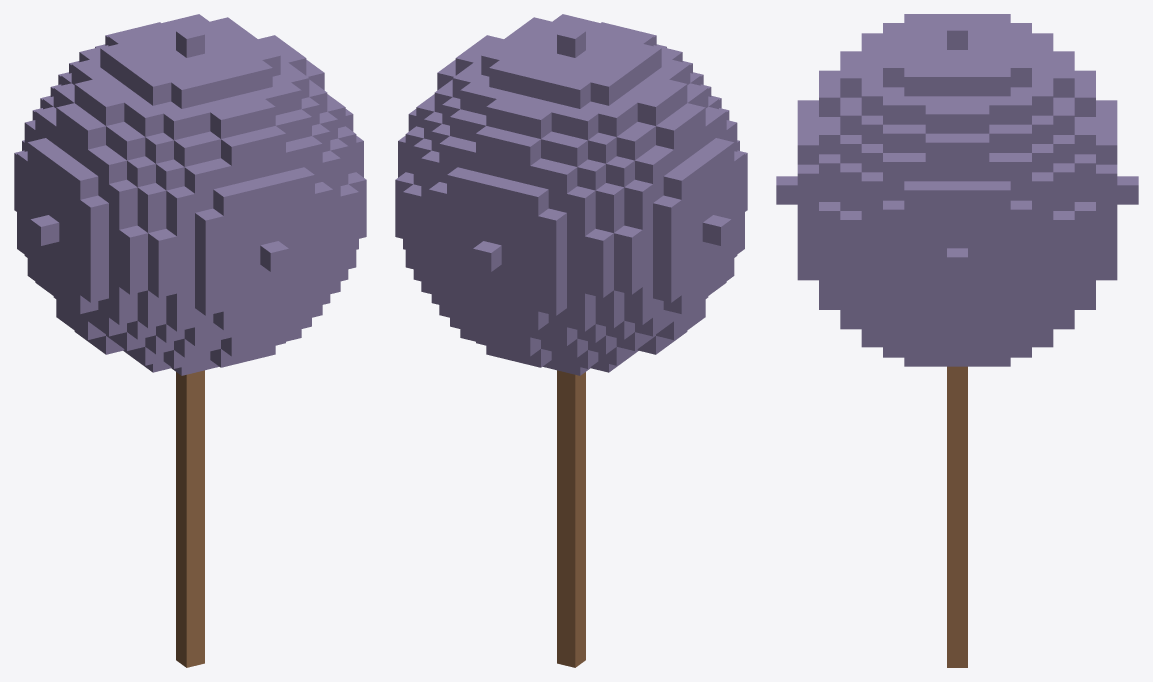
File: social-12.glb
The picture shows the model from 3 angles, left to right: view 1: azimuth 30°, elevation 25°; view 2: azimuth 150°, elevation 25°; view 3: azimuth 270°, elevation 25°; orthographic projection.
Parts seen in each view (by area): view 1: Event balloon; view 2: Event balloon; view 3: Event balloon.
Boxes of the visible parts, x1,y1,x2,y2 form: Event balloon: [14, 14, 366, 667]; Event balloon: [395, 14, 747, 667]; Event balloon: [776, 14, 1138, 667].
Bounding box in the file's own units: 1.36 × 2.64 × 1.36.
